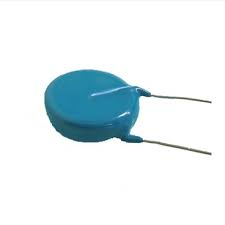ceramic capacitor: (23, 41, 176, 165)
